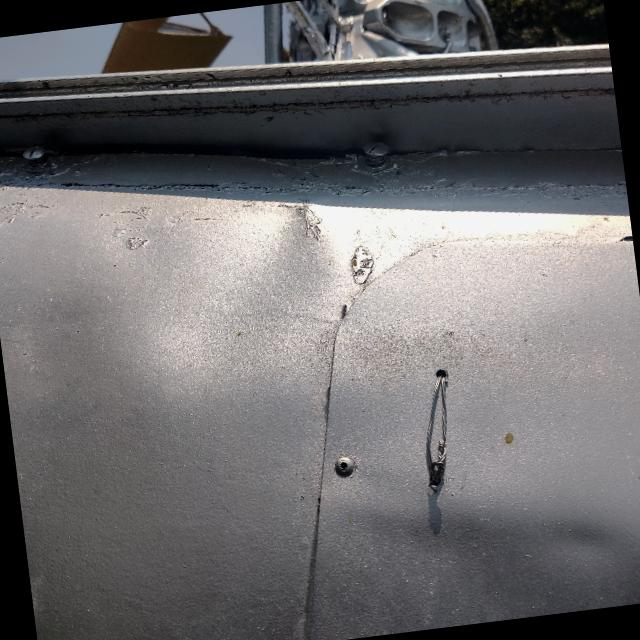dent: (124, 151, 376, 412)
